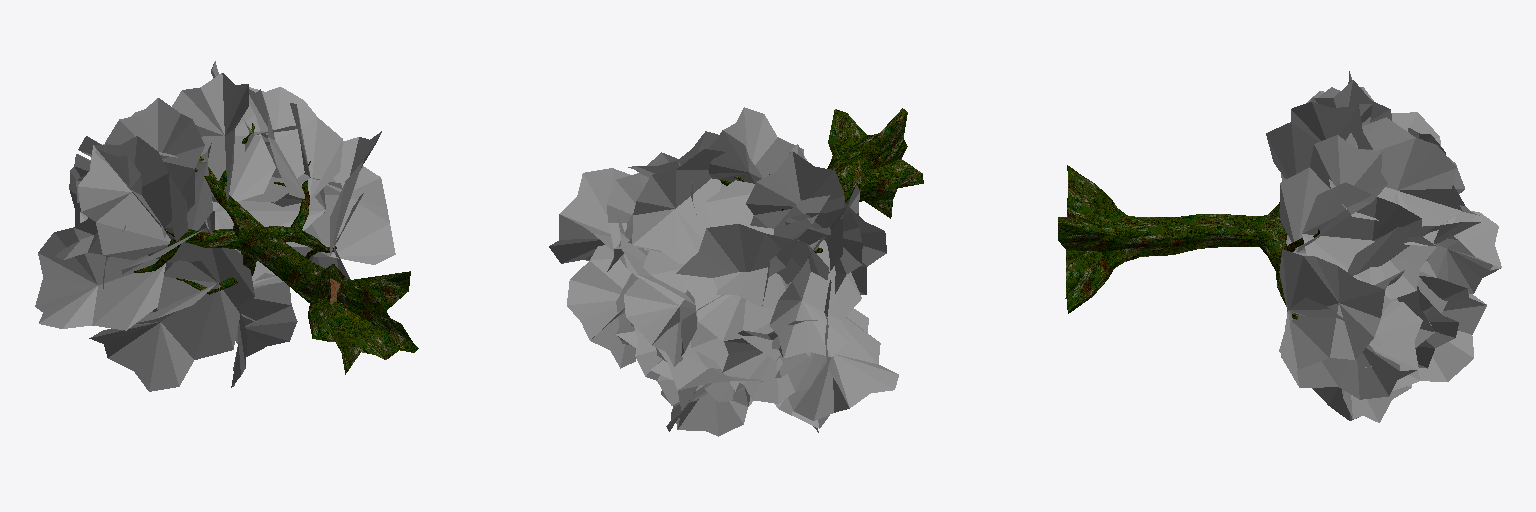
3 views of the same model, side by side, from view 1: azimuth 30°, elevation 25°; view 2: azimuth 150°, elevation 25°; view 3: azimuth 270°, elevation 25° (orthographic).
Parts seen in each view (by area): view 1: B_Twist00OutsideNormalOriginalModel_010__Mt_Treeleaf_01, A_Twist00OutsideNormalOriginalModel_019__Mt_Treeleaf_00, WoodTest1__Mt_Tree_Stump, WoodTest1__Mt_Tree_Trunk; view 2: B_Twist00OutsideNormalOriginalModel_010__Mt_Treeleaf_01, A_Twist00OutsideNormalOriginalModel_019__Mt_Treeleaf_00, WoodTest1__Mt_Tree_Stump; view 3: B_Twist00OutsideNormalOriginalModel_010__Mt_Treeleaf_01, A_Twist00OutsideNormalOriginalModel_019__Mt_Treeleaf_00, WoodTest1__Mt_Tree_Stump, WoodTest1__Mt_Tree_Trunk.
Boxes of the visible parts, box(x1,y1,x2,y2) form: B_Twist00OutsideNormalOriginalModel_010__Mt_Treeleaf_01: box(76, 73, 395, 391); A_Twist00OutsideNormalOriginalModel_019__Mt_Treeleaf_00: box(35, 61, 363, 330); WoodTest1__Mt_Tree_Stump: box(307, 264, 418, 374); WoodTest1__Mt_Tree_Trunk: box(134, 123, 336, 302); B_Twist00OutsideNormalOriginalModel_010__Mt_Treeleaf_01: box(549, 107, 868, 436); A_Twist00OutsideNormalOriginalModel_019__Mt_Treeleaf_00: box(567, 149, 898, 431); WoodTest1__Mt_Tree_Stump: box(827, 108, 923, 218); B_Twist00OutsideNormalOriginalModel_010__Mt_Treeleaf_01: box(1266, 71, 1501, 422); A_Twist00OutsideNormalOriginalModel_019__Mt_Treeleaf_00: box(1281, 87, 1486, 399); WoodTest1__Mt_Tree_Stump: box(1058, 165, 1139, 313); WoodTest1__Mt_Tree_Trunk: box(1140, 202, 1319, 319).
Size of the model in its own units: 13.63 by 11.99 by 15.24.
Materials: 7 (2 with a texture image).